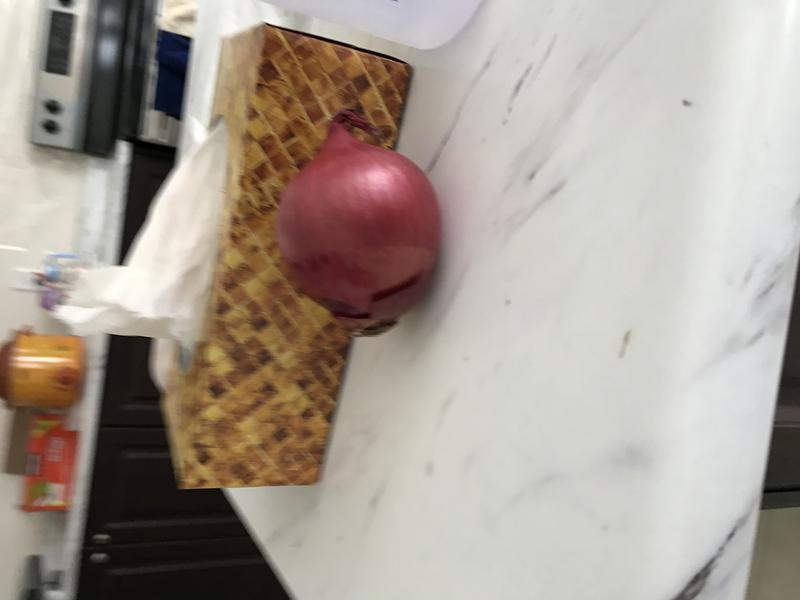purple_onion: (261, 94, 462, 344)
